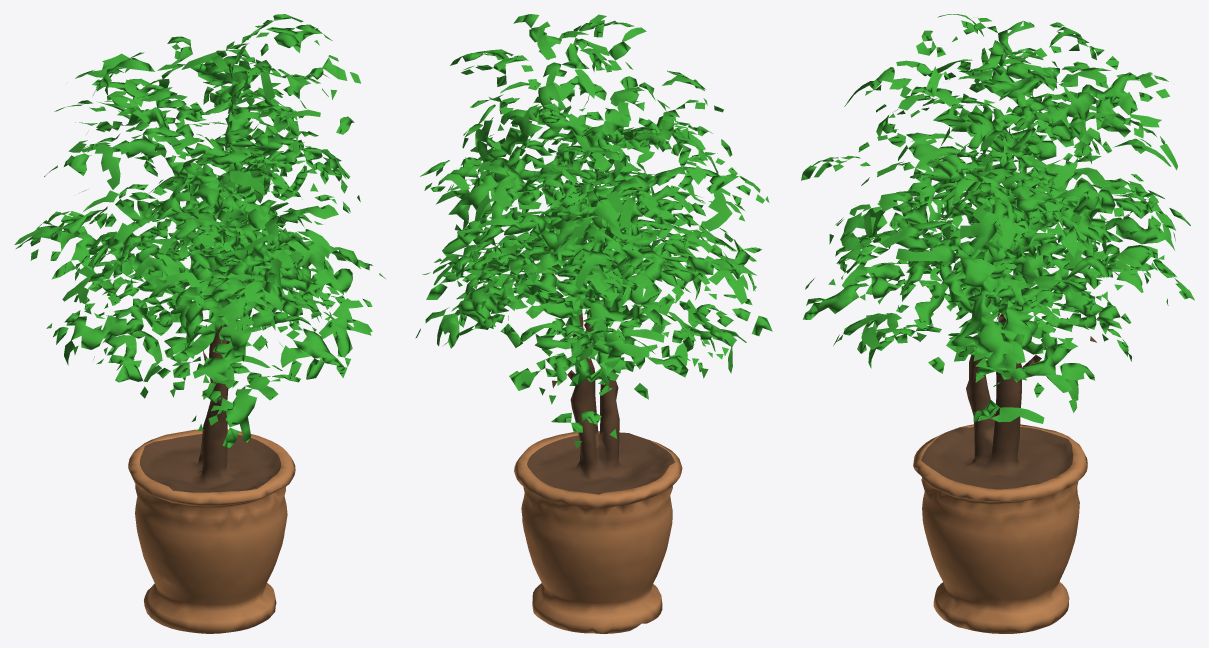
File: plante_2.glb
3 views of the same model, side by side, from view 1: azimuth 30°, elevation 25°; view 2: azimuth 150°, elevation 25°; view 3: azimuth 270°, elevation 25° (orthographic). The views are drawn at different scales.
Parts seen in each view (by area): view 1: Mesh1; view 2: Mesh1; view 3: Mesh1.
Boxes of the visible parts, bbox=[...] form: Mesh1: bbox=[14, 14, 385, 633]; Mesh1: bbox=[415, 14, 772, 633]; Mesh1: bbox=[801, 14, 1194, 633].
Bounding box in the file's own units: 1.18 × 1.98 × 1.19.
